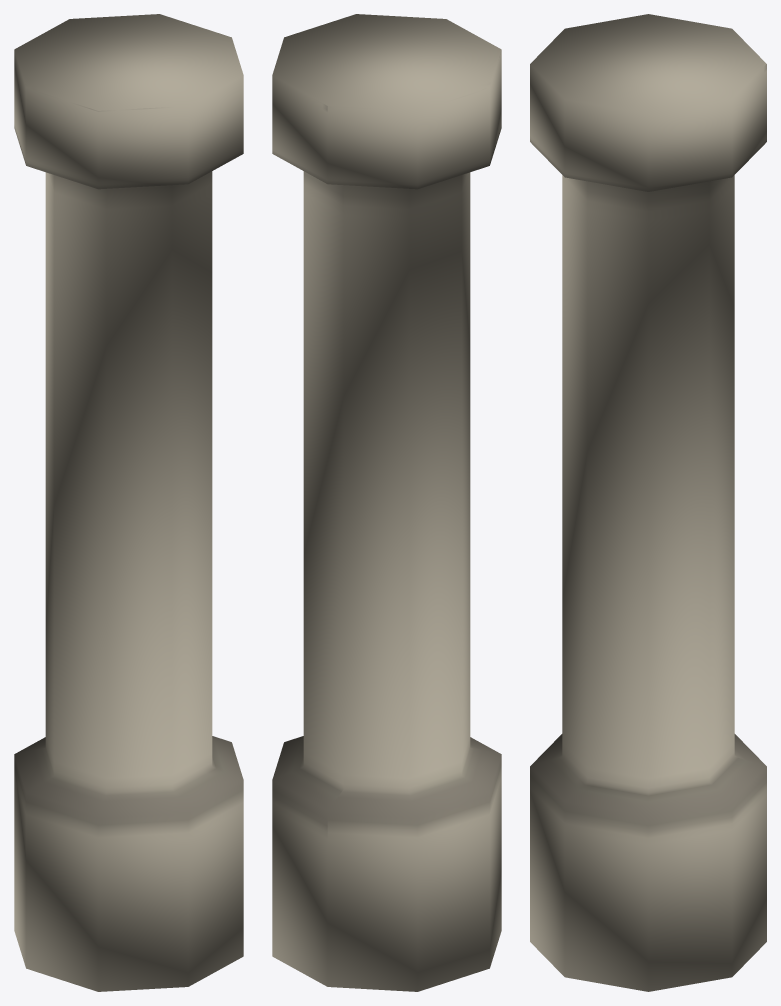
The model's file is decor_Pillar.fbx.
3 views of the same model, side by side, from view 1: azimuth 30°, elevation 25°; view 2: azimuth 150°, elevation 25°; view 3: azimuth 270°, elevation 25° (orthographic).
Parts seen in each view (by area): view 1: Pillar; view 2: Pillar; view 3: Pillar.
Boxes of the visible parts, x1,y1,x2,y2 form: Pillar: (14, 14, 243, 991); Pillar: (272, 14, 501, 991); Pillar: (530, 14, 766, 991).
Size of the model in its own units: 220 by 900 by 220.
Materials: 1 (1 with a texture image).
